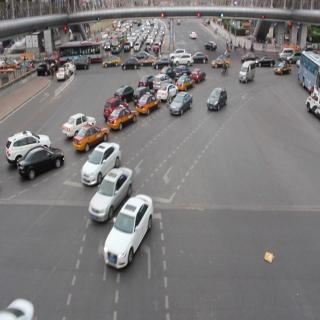BigCar: (57, 42, 102, 68)
Car: (104, 204, 158, 268), (95, 169, 130, 224), (17, 147, 64, 181), (88, 134, 120, 173), (7, 133, 49, 159), (209, 80, 233, 119), (57, 109, 98, 130), (169, 80, 190, 120), (239, 61, 256, 94), (140, 92, 158, 120), (120, 56, 140, 78), (102, 55, 122, 72), (58, 66, 68, 83)
